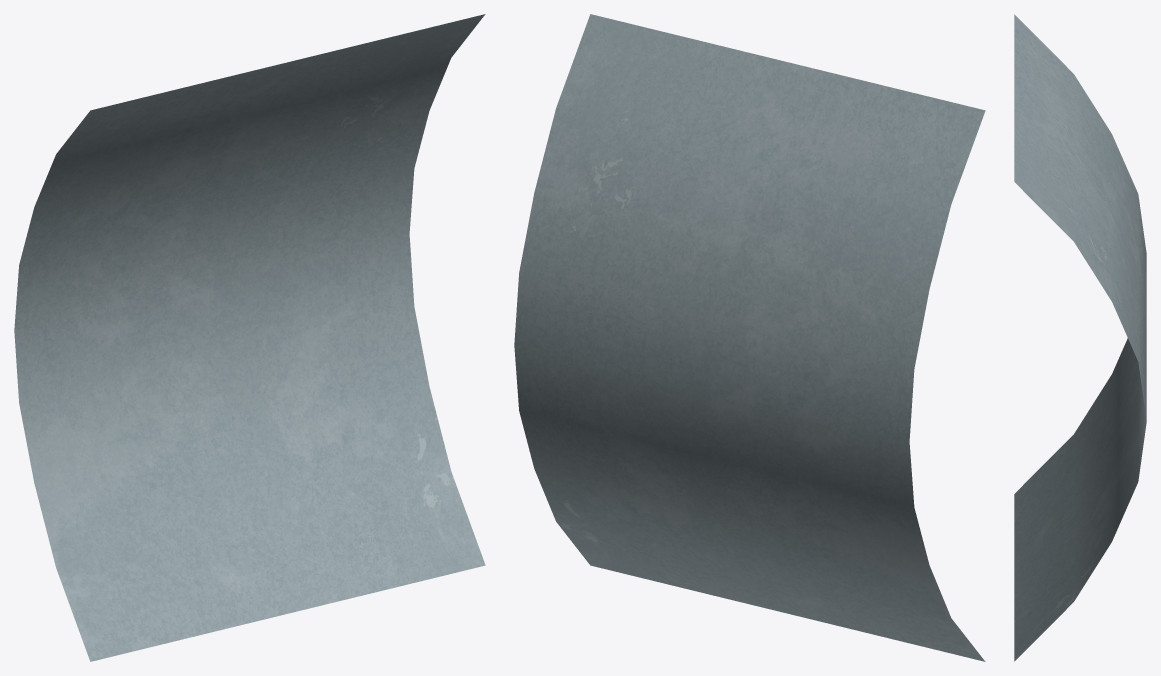
The model's file is BasicWall.fbx.
3 views of the same model, side by side, from view 1: azimuth 30°, elevation 25°; view 2: azimuth 150°, elevation 25°; view 3: azimuth 270°, elevation 25° (orthographic). The views are drawn at different scales.
Parts seen in each view (by area): view 1: pPlane1; view 2: pPlane1; view 3: pPlane1.
Part boxes in pixels (x1,y1,x2,y2): pPlane1: (14,14,485,661); pPlane1: (514,14,985,661); pPlane1: (1014,14,1146,661).
Size of the model in its own units: 3 by 4 by 1.
